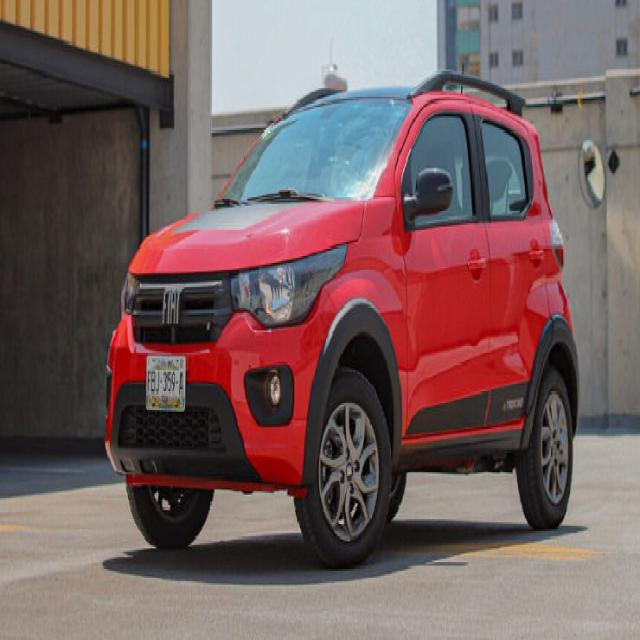SUV: (103, 73, 585, 575)
